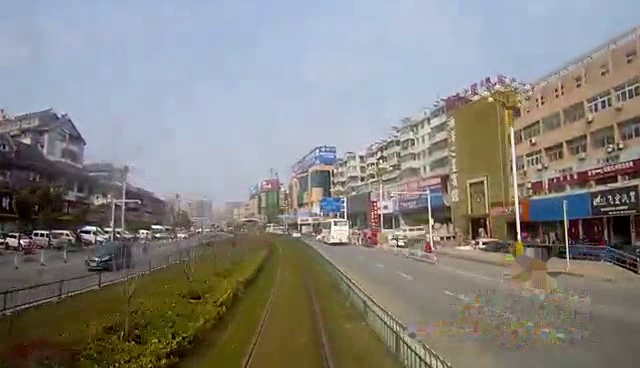bus: (318, 217, 352, 245)
car: (82, 240, 136, 275)
